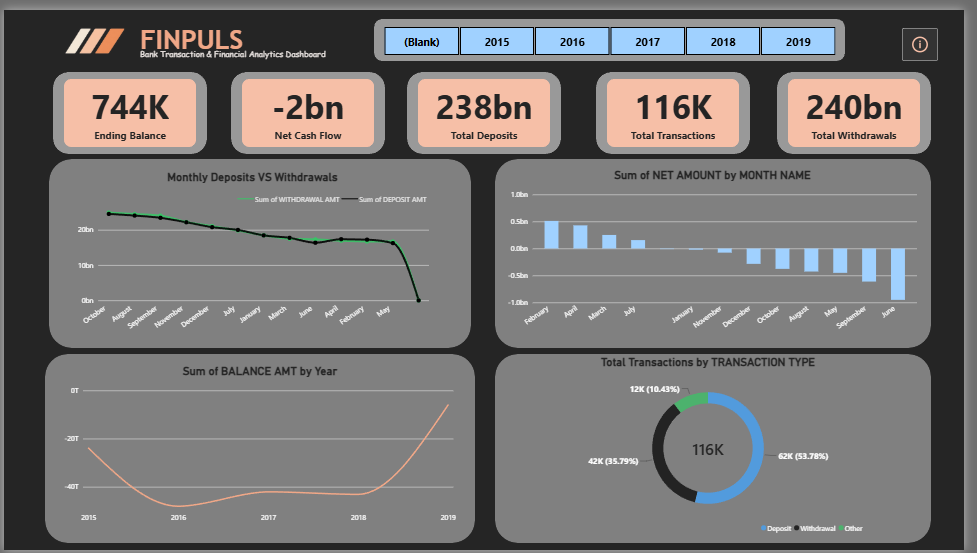

Layout of this report page (visuals, bound fields, positions):
{"tool":"powerbi","page":{"name":"Page 1","canvas":[1920,1080],"ordinal":0},"visuals":[{"type":"shape","box":[740,18,942,84],"z":0},{"type":"shape","box":[982,298,872,378],"z":1000},{"type":"shape","box":[82,688,860,378],"z":2000},{"type":"shape","box":[90,298,844,378],"z":3000},{"type":"shape","box":[982,688,872,378],"z":4000},{"type":"shape","box":[1546,124,308,164],"z":5000},{"type":"shape","box":[1184,124,308,164],"z":6000},{"type":"shape","box":[806,124,308,164],"z":7000},{"type":"shape","box":[454,124,308,164],"z":8000},{"type":"shape","box":[98,124,308,164],"z":9000},{"type":"textbox","box":[272,28,214,96],"z":10000},{"type":"textbox","box":[272,76,762.9,51.4],"z":11000},{"type":"image","box":[58,0,246,124],"z":12000},{"type":"cardVisual","fields":{"Data":["FinPulse_PowerBI.Ending Balance"]},"box":[120,138,264,136],"z":13000},{"type":"cardVisual","fields":{"Data":["FinPulse_PowerBI.Net Cash Flow"]},"box":[476,138,264,136],"z":14000},{"type":"cardVisual","fields":{"Data":["FinPulse_PowerBI.Total Deposits"]},"box":[828,138,264,136],"z":15000},{"type":"cardVisual","fields":{"Data":["FinPulse_PowerBI.Total Transactions"]},"box":[1206,138,264,136],"z":16000},{"type":"cardVisual","fields":{"Data":["FinPulse_PowerBI.Total Withdrawals"]},"box":[1568,138,264,136],"z":17000},{"type":"lineChart","title":"Monthly Deposits VS Withdrawals","fields":{"Category":["FinPulse_PowerBI.MONTH NAME"],"Y":["Sum(FinPulse_PowerBI.WITHDRAWAL AMT)","Sum(FinPulse_PowerBI.DEPOSIT AMT)"]},"box":[144,320,706,336],"z":18000},{"type":"clusteredColumnChart","fields":{"Category":["FinPulse_PowerBI.MONTH NAME"],"Y":["Sum(FinPulse_PowerBI.NET AMOUNT)"]},"box":[1008,316,818,340],"z":19000},{"type":"lineChart","fields":{"Category":["FinPulse_PowerBI.DATE.Variation.Date Hierarchy.Year","FinPulse_PowerBI.DATE.Variation.Date Hierarchy.Quarter","FinPulse_PowerBI.DATE.Variation.Date Hierarchy.Month","FinPulse_PowerBI.DATE.Variation.Date Hierarchy.Day"],"Y":["Sum(FinPulse_PowerBI.BALANCE AMT)"]},"box":[120,708,784,322],"z":20000},{"type":"donutChart","fields":{"Category":["FinPulse_PowerBI.TRANSACTION TYPE"],"Y":["FinPulse_PowerBI.Total Transactions"]},"box":[1094,690,628,360],"z":21000},{"type":"slicer","fields":{"Values":["FinPulse_PowerBI.YEAR"]},"box":[740,32,942,60],"z":22000},{"type":"actionButton","box":[1796,36,72,66],"z":23000}]}

Visuals, with their boxes in screenshot pixels (x1, y1, x2, y2), scaled from the page's 1920x1080 canvas onto the 977x553 screenshot:
shape: Rect(377, 9, 856, 52)
shape: Rect(500, 153, 943, 346)
shape: Rect(42, 352, 479, 546)
shape: Rect(46, 153, 475, 346)
shape: Rect(500, 352, 943, 546)
shape: Rect(787, 63, 943, 147)
shape: Rect(602, 63, 759, 147)
shape: Rect(410, 63, 567, 147)
shape: Rect(231, 63, 388, 147)
shape: Rect(50, 63, 207, 147)
textbox: Rect(138, 14, 247, 63)
textbox: Rect(138, 39, 527, 65)
image: Rect(30, 0, 155, 63)
cardVisual - FinPulse_PowerBI.Ending Balance: Rect(61, 71, 195, 140)
cardVisual - FinPulse_PowerBI.Net Cash Flow: Rect(242, 71, 377, 140)
cardVisual - FinPulse_PowerBI.Total Deposits: Rect(421, 71, 556, 140)
cardVisual - FinPulse_PowerBI.Total Transactions: Rect(614, 71, 748, 140)
cardVisual - FinPulse_PowerBI.Total Withdrawals: Rect(798, 71, 932, 140)
"Monthly Deposits VS Withdrawals" lineChart: Rect(73, 164, 433, 336)
clusteredColumnChart - FinPulse_PowerBI.MONTH NAME x Sum(FinPulse_PowerBI.NET AMOUNT): Rect(513, 162, 929, 336)
lineChart - FinPulse_PowerBI.DATE.Variation.Date Hierarchy.Year x FinPulse_PowerBI.DATE.Variation.Date Hierarchy.Quarter: Rect(61, 363, 460, 527)
donutChart - FinPulse_PowerBI.TRANSACTION TYPE x FinPulse_PowerBI.Total Transactions: Rect(557, 353, 876, 538)
slicer - FinPulse_PowerBI.YEAR: Rect(377, 16, 856, 47)
actionButton: Rect(914, 18, 951, 52)
